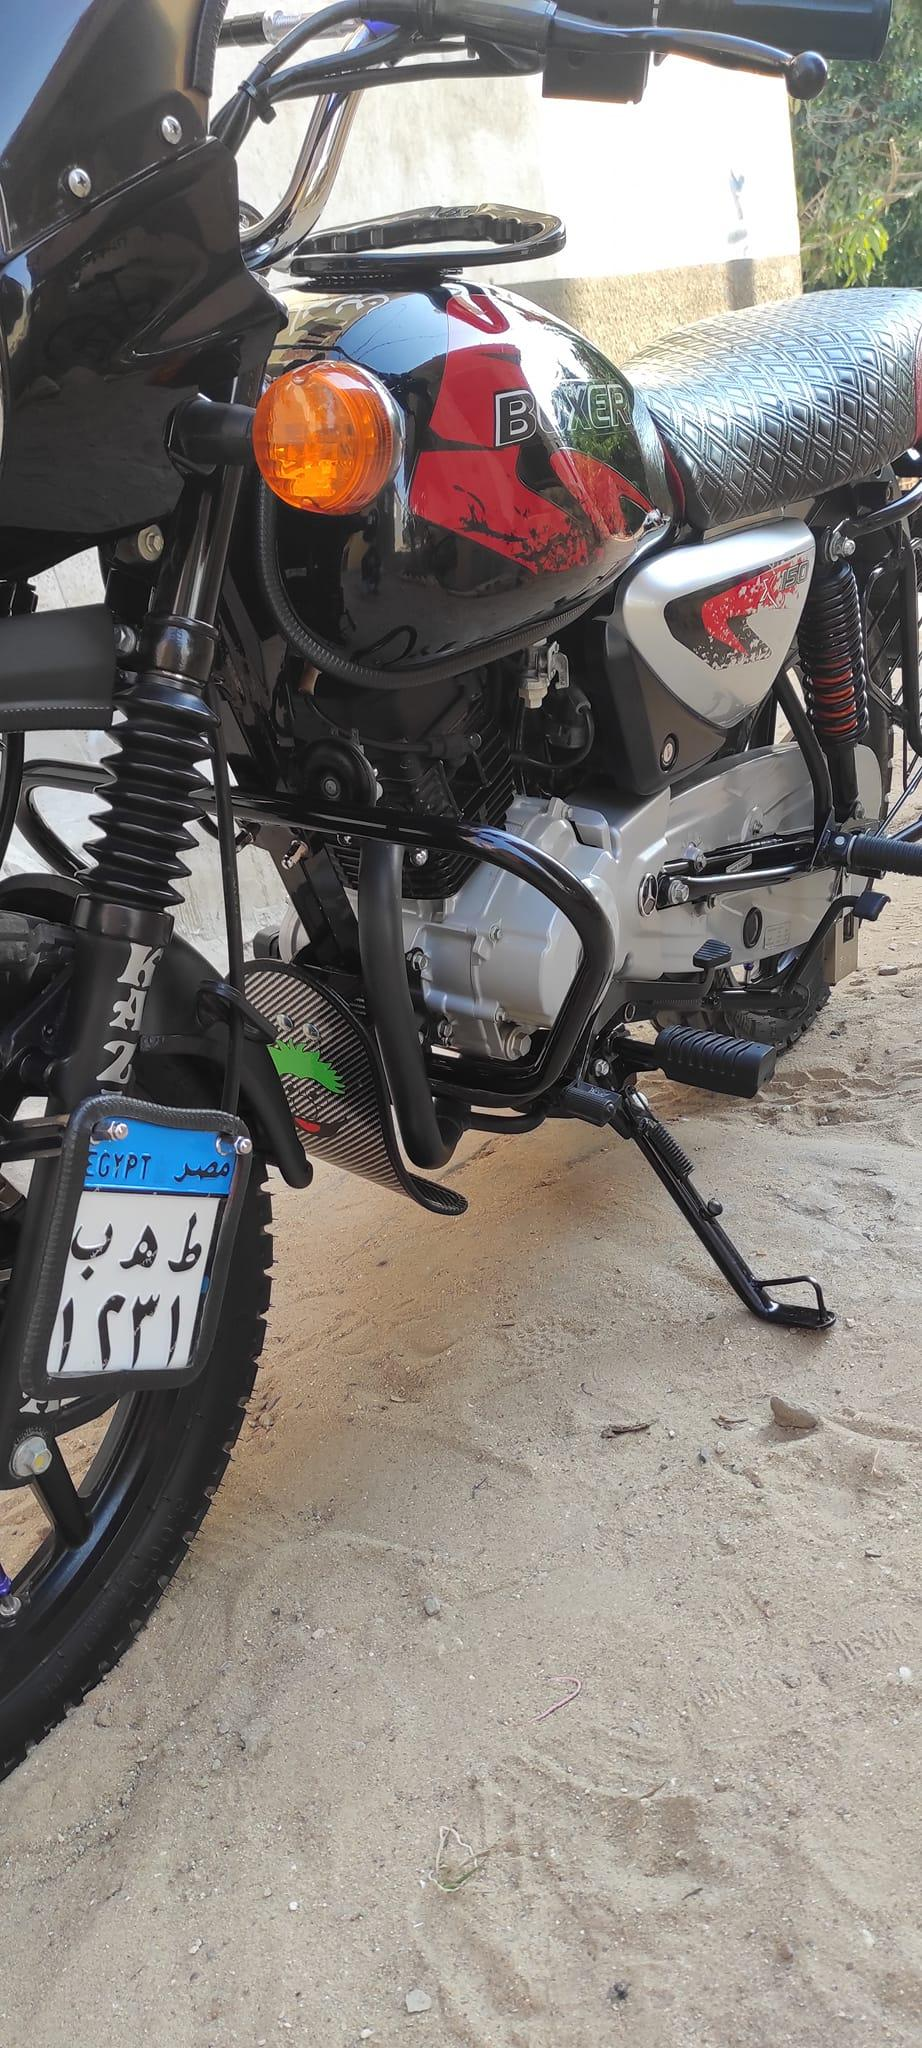License Plate: (45, 1104, 244, 1383)
